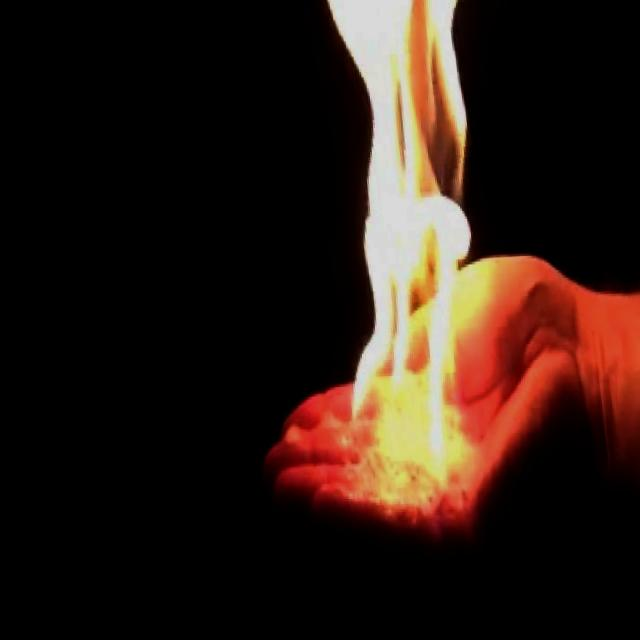Fire: (296, 0, 521, 467)
